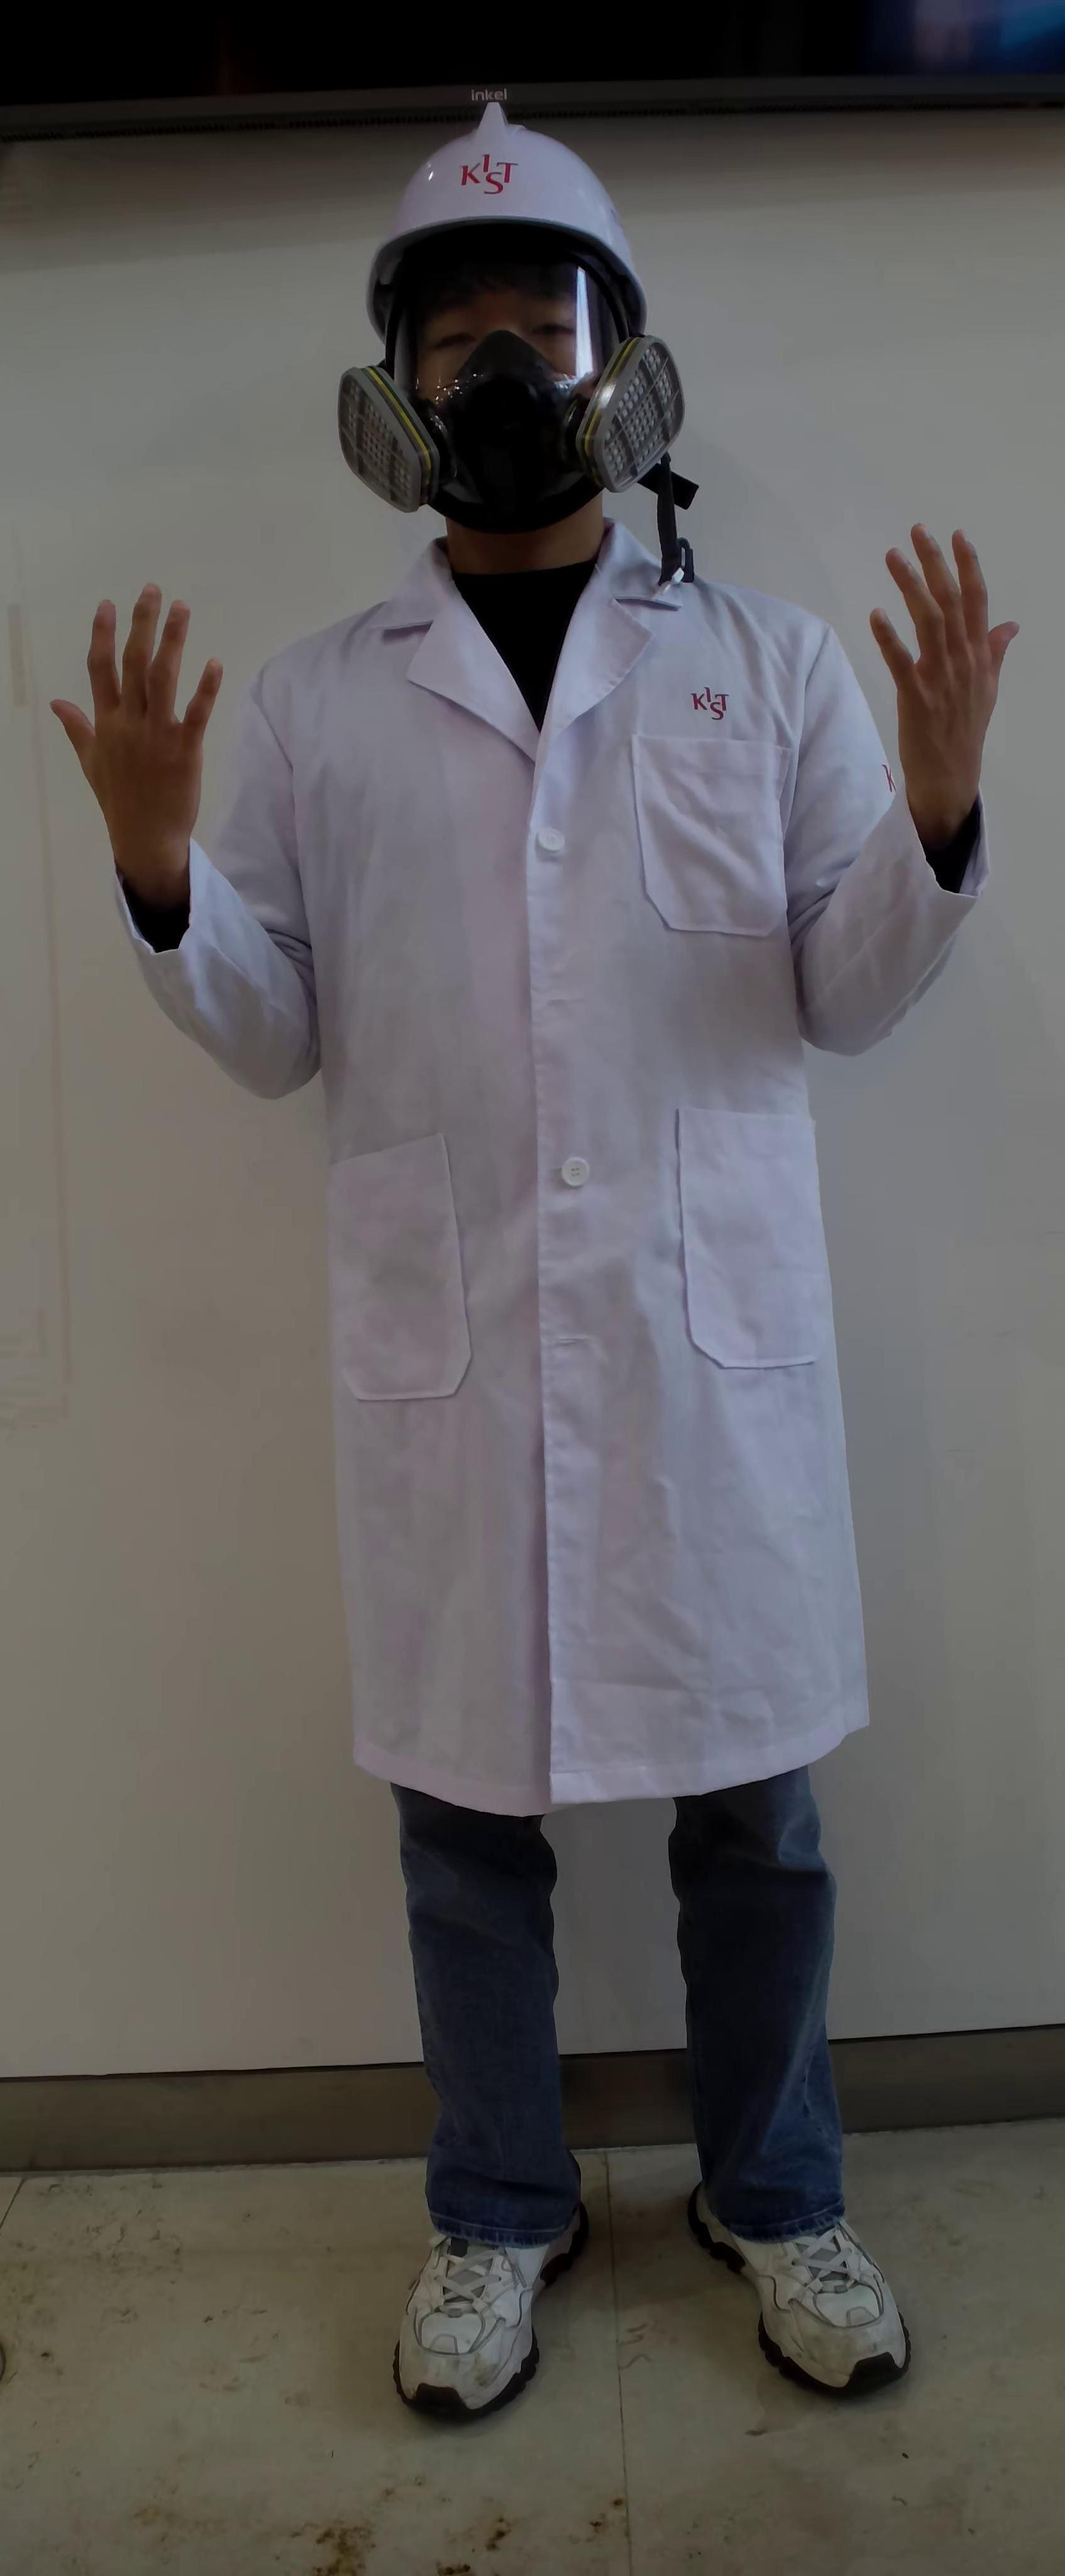lab_coat: (271, 605, 884, 1819)
